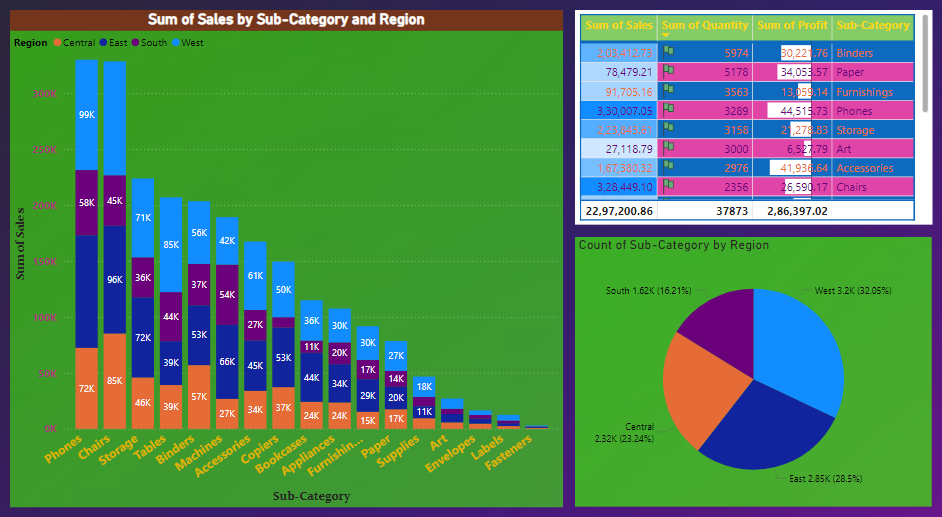

What the dashboard file says about the page in this screenshot:
{"tool":"powerbi","page":{"name":"Page 1","canvas":[1280,720],"ordinal":0},"visuals":[{"type":"columnChart","fields":{"Category":["Sheet1.Sub-Category"],"Y":["Sum(Sheet1.Sales)"],"Series":["Sheet1.Region"]},"box":[31.4,39.3,723.9,650.6],"z":0},{"type":"tableEx","fields":{"Values":["Sum(Sheet1.Sales)","Sum(Sheet1.Quantity)","Sum(Sheet1.Profit)","Sheet1.Sub-Category"]},"box":[770.8,39.9,468,280.8],"z":1000},{"type":"pieChart","fields":{"Category":["Sheet1.Region"],"Y":["CountNonNull(Sheet1.Sub-Category)"]},"box":[771.1,336.4,467.3,353.5],"z":2000}]}

Visuals, with their boxes in screenshot pixels (x1, y1, x2, y2), scaled from the page's 1280x720 canvas onto the 942x517 screenshot:
columnChart - Sheet1.Sub-Category x Sum(Sheet1.Sales): region(23, 28, 556, 495)
tableEx - Sum(Sheet1.Sales) x Sum(Sheet1.Quantity): region(567, 29, 912, 230)
pieChart - Sheet1.Region x CountNonNull(Sheet1.Sub-Category): region(567, 242, 911, 495)
